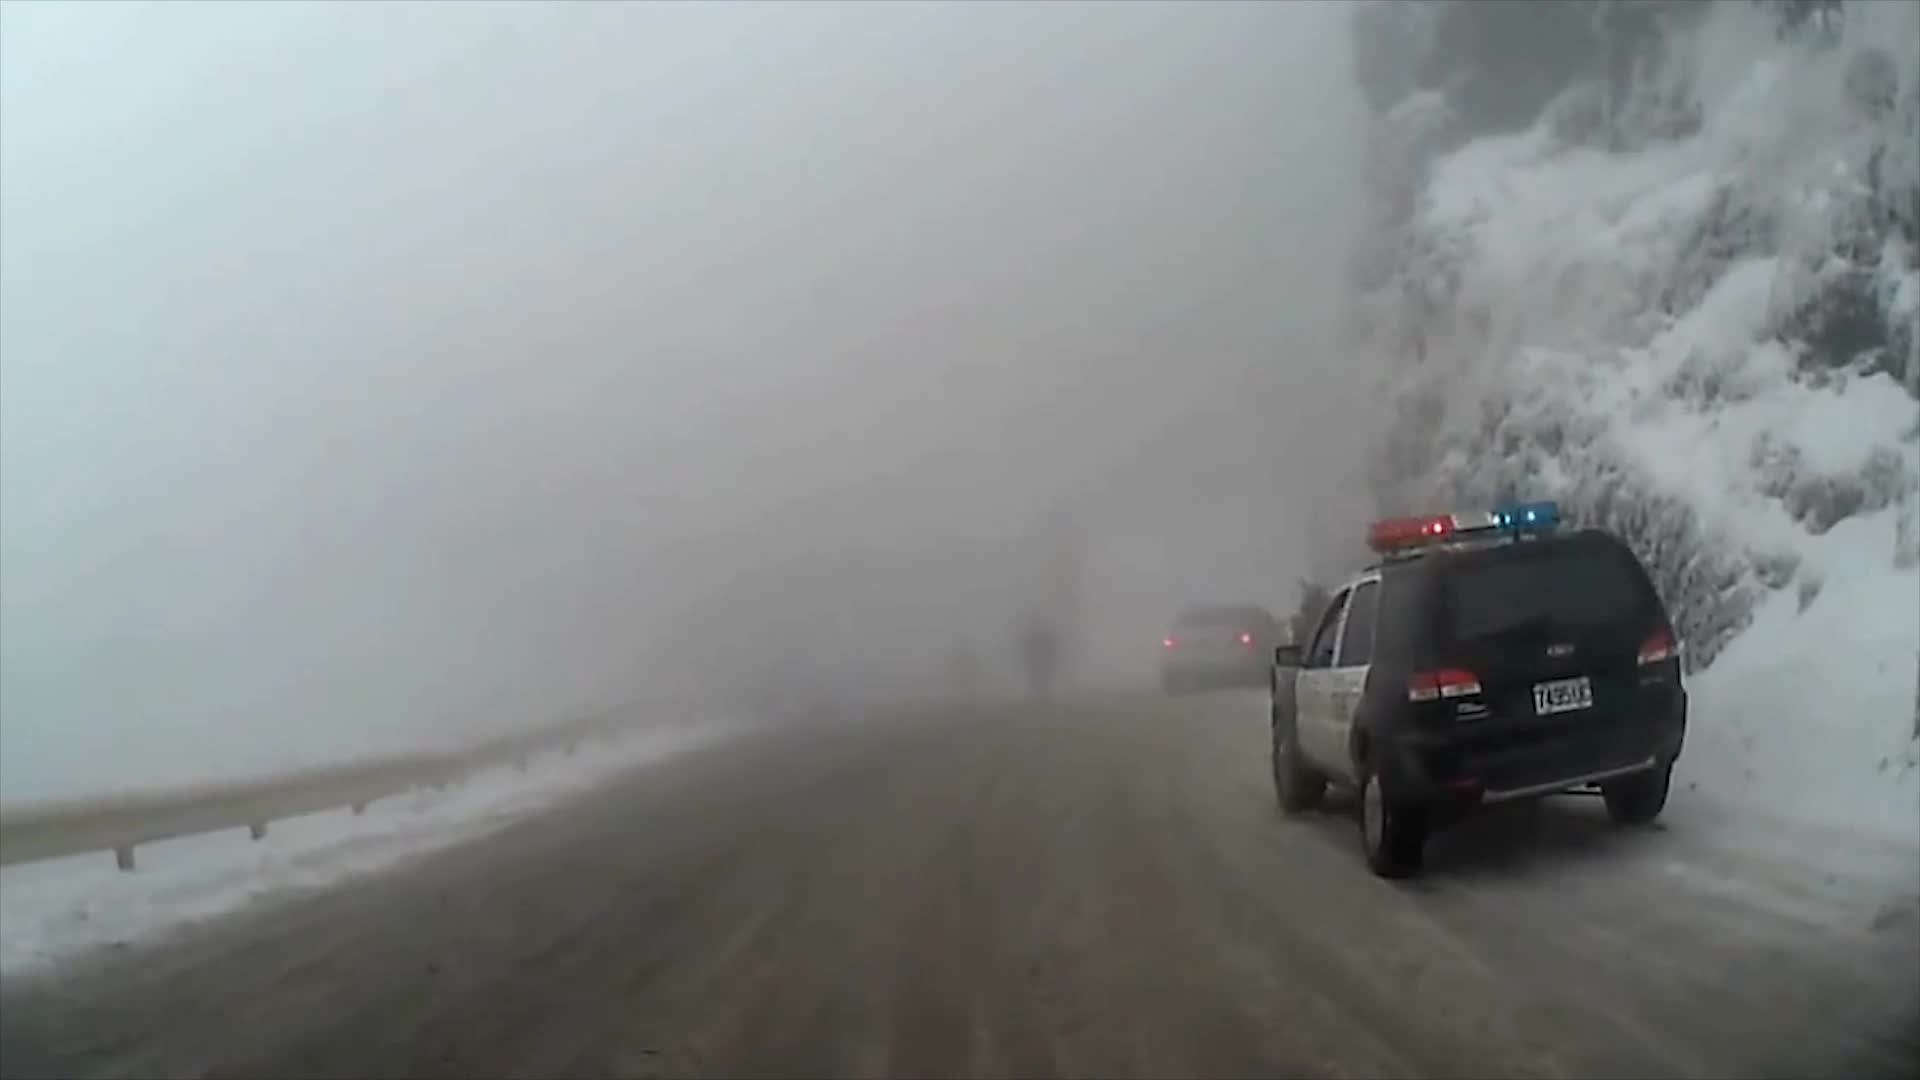vehicle: (1266, 498, 1689, 878), (1158, 604, 1288, 698)
